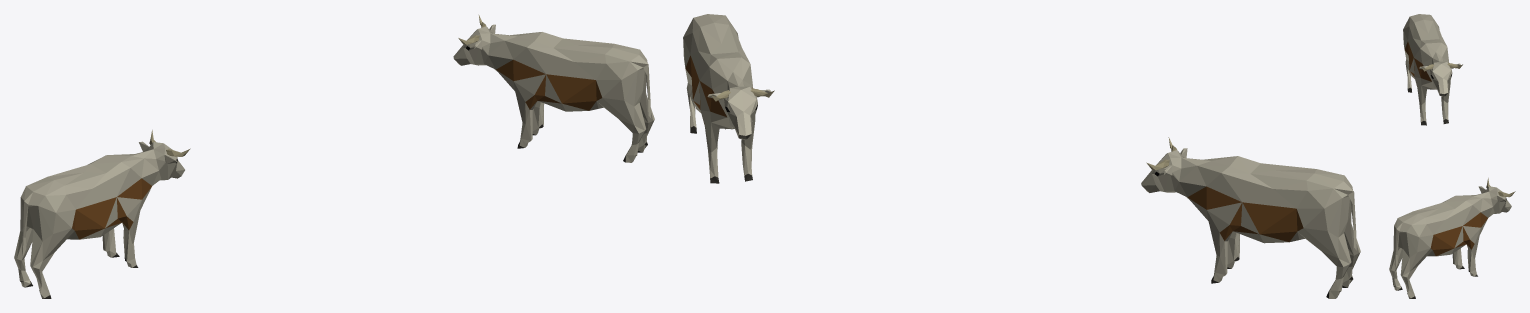
The model's file is cattle1.glb.
3 views of the same model, side by side, from view 1: azimuth 30°, elevation 25°; view 2: azimuth 150°, elevation 25°; view 3: azimuth 270°, elevation 25° (orthographic). The views are drawn at different scales.
Parts seen in each view (by area): view 1: cattle1; view 2: cattle1; view 3: cattle1.
Part boxes in pixels (x1=…): cattle1: x1=14, y1=14, x2=654, y2=298; cattle1: x1=683, y1=14, x2=1360, y2=298; cattle1: x1=1389, y1=14, x2=1515, y2=298.
Bounding box in the file's own units: 48.23 × 7.98 × 11.84.
